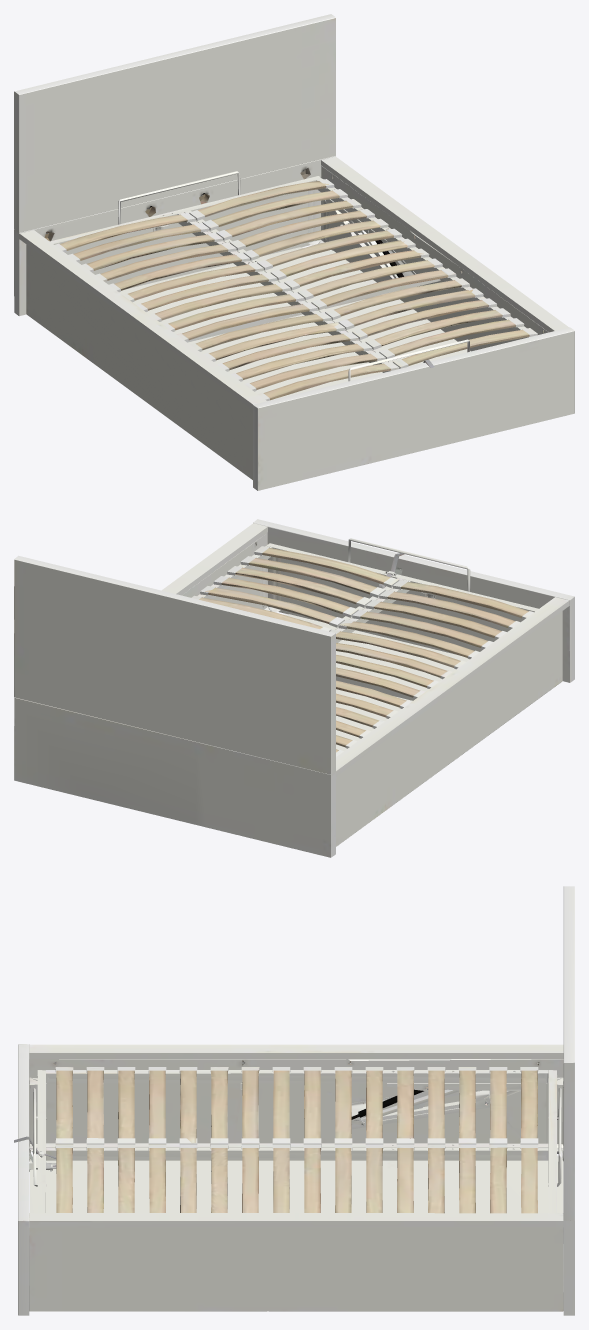
3 renders of one model, top to bottom at view 1: azimuth 30°, elevation 25°; view 2: azimuth 150°, elevation 25°; view 3: azimuth 270°, elevation 25°, orthographic. The views are drawn at different scales.
Visible parts, largest first — view 1: 10404816-MALM001; view 2: 10404816-MALM001; view 3: 10404816-MALM001.
Part boxes in pixels (x1,y1,x2,y2): 10404816-MALM001: (14, 14, 574, 490); 10404816-MALM001: (14, 519, 574, 857); 10404816-MALM001: (14, 886, 574, 1315).
Size of the model in its own units: 1.5 by 1.01 by 2.01.
Materials: 1 (1 with a texture image).
